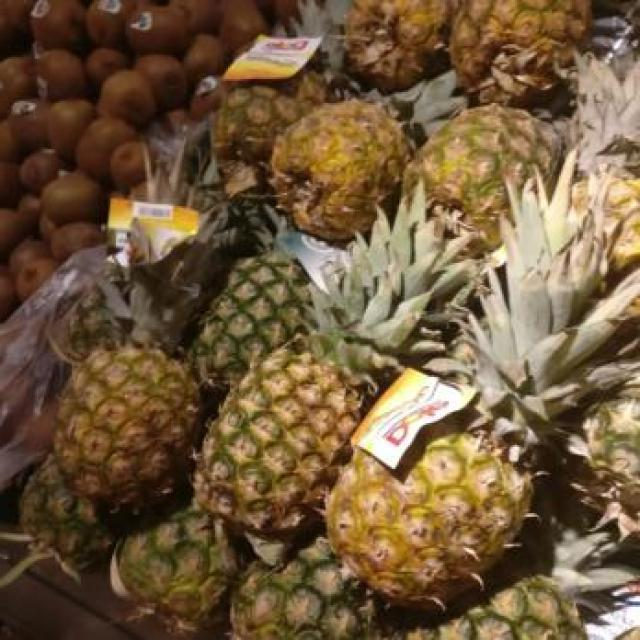pineapple: (328, 154, 640, 609), (195, 190, 466, 537), (54, 349, 199, 529), (405, 104, 551, 244), (271, 104, 408, 242), (191, 251, 311, 386), (449, 0, 590, 107), (111, 505, 240, 621), (231, 540, 371, 640), (406, 576, 588, 639), (215, 71, 324, 163), (346, 0, 449, 92), (131, 261, 190, 344)
